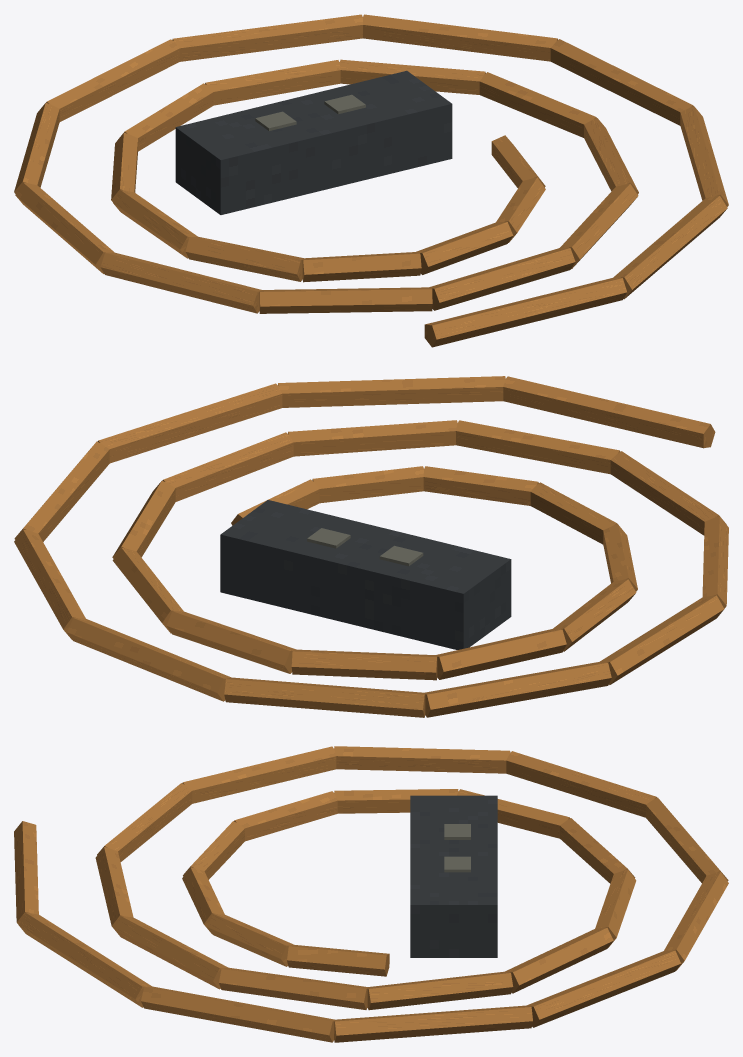
File: long_extension_cable.glb
3 renders of one model, top to bottom at view 1: azimuth 30°, elevation 25°; view 2: azimuth 150°, elevation 25°; view 3: azimuth 270°, elevation 25°, orthographic. The views are drawn at different scales.
Parts seen in each view (by area): view 1: block_socket block, block_wound extension cable 24, block_wound extension cable 20, block_wound extension cable 19, block_wound extension cable 14, block_wound extension cable 15, block_wound extension cable 21, block_wound extension cable 13, block_wound extension cable 18, block_wound extension cable 8, block_wound extension cable 23, block_wound extension cable 3 (+14 smaller); view 2: block_socket block, block_wound extension cable 23, block_wound extension cable 24, block_wound extension cable 18, block_wound extension cable 17, block_wound extension cable 22, block_wound extension cable 19, block_wound extension cable 12, block_wound extension cable 13, block_wound extension cable 7, block_wound extension cable 16, block_wound extension cable 6 (+16 smaller); view 3: block_socket block, block_wound extension cable 21, block_wound extension cable 22, block_wound extension cable 16, block_wound extension cable 20, block_wound extension cable 15, block_wound extension cable 17, block_wound extension cable 11, block_wound extension cable 10, block_wound extension cable 23, block_wound extension cable 12, block_wound extension cable 9 (+14 smaller).
Boxes of the visible parts, <box> form: block_socket block: <box>175,70,452,214</box>; block_wound extension cable 24: <box>424,277,627,347</box>; block_wound extension cable 20: <box>363,14,557,61</box>; block_wound extension cable 19: <box>172,14,362,61</box>; block_wound extension cable 14: <box>259,287,432,313</box>; block_wound extension cable 15: <box>100,252,261,313</box>; block_wound extension cable 21: <box>550,39,693,125</box>; block_wound extension cable 13: <box>429,247,575,310</box>; block_wound extension cable 18: <box>46,39,179,121</box>; block_wound extension cable 8: <box>205,60,340,105</box>; block_wound extension cable 23: <box>613,195,727,299</box>; block_wound extension cable 3: <box>302,252,421,282</box>; block_socket block: <box>220,500,511,649</box>; block_wound extension cable 23: <box>278,376,505,407</box>; block_wound extension cable 24: <box>503,376,715,448</box>; block_wound extension cable 18: <box>224,677,425,717</box>; block_wound extension cable 17: <box>424,662,611,717</box>; block_wound extension cable 22: <box>97,383,282,463</box>; block_wound extension cable 19: <box>67,618,231,701</box>; block_wound extension cable 12: <box>288,420,457,456</box>; block_wound extension cable 13: <box>456,420,620,474</box>; block_wound extension cable 7: <box>291,649,437,680</box>; block_wound extension cable 16: <box>600,595,724,684</box>; block_wound extension cable 6: <box>435,629,566,679</box>; block_socket block: <box>410,795,497,957</box>; block_wound extension cable 21: <box>334,1005,532,1042</box>; block_wound extension cable 22: <box>141,986,334,1042</box>; block_wound extension cable 16: <box>334,746,510,773</box>; block_wound extension cable 20: <box>526,950,680,1027</box>; block_wound extension cable 15: <box>182,746,336,803</box>; block_wound extension cable 17: <box>506,751,656,817</box>; block_wound extension cable 11: <box>219,967,367,1009</box>; block_wound extension cable 10: <box>367,971,513,1010</box>; block_wound extension cable 23: <box>19,912,151,1007</box>; block_wound extension cable 12: <box>114,916,227,989</box>; block_wound extension cable 9: <box>505,927,613,993</box>.
Bounding box in the file's own units: 0.2186 × 0.02 × 0.2316.
Materials: 1 (1 with a texture image).
